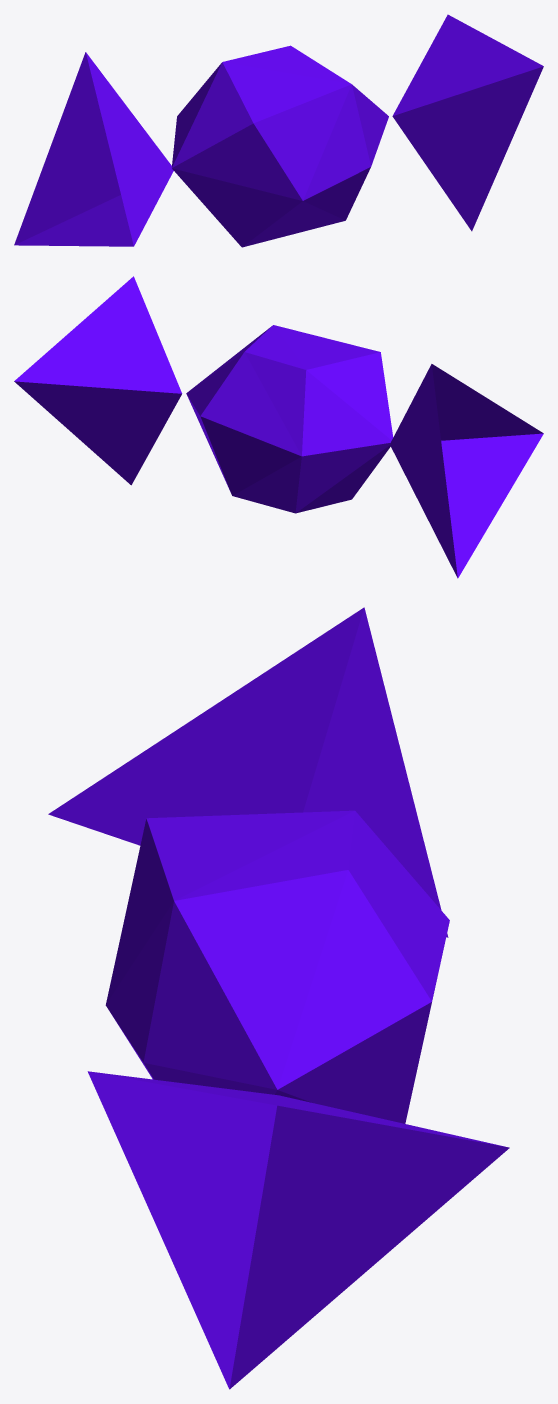
Rendered from item_candy.FBX.
The picture shows the model from 3 angles, top to bottom: view 1: azimuth 30°, elevation 25°; view 2: azimuth 150°, elevation 25°; view 3: azimuth 270°, elevation 25°; orthographic projection. The views are drawn at different scales.
Parts seen in each view (by area): view 1: Object001; view 2: Object001; view 3: Object001.
Boxes of the visible parts, left/top/right/bottom form: Object001: left=14, top=14, right=543, bottom=247; Object001: left=14, top=276, right=543, bottom=578; Object001: left=48, top=607, right=509, bottom=1389.
Size of the model in its own units: 75.68 by 35.35 by 38.52.
1 material, 1 textured.
